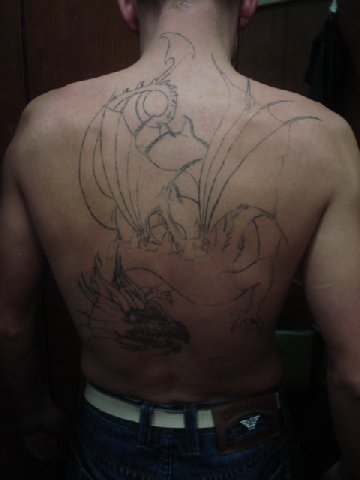tatu6_drakon: (42, 27, 325, 364)
